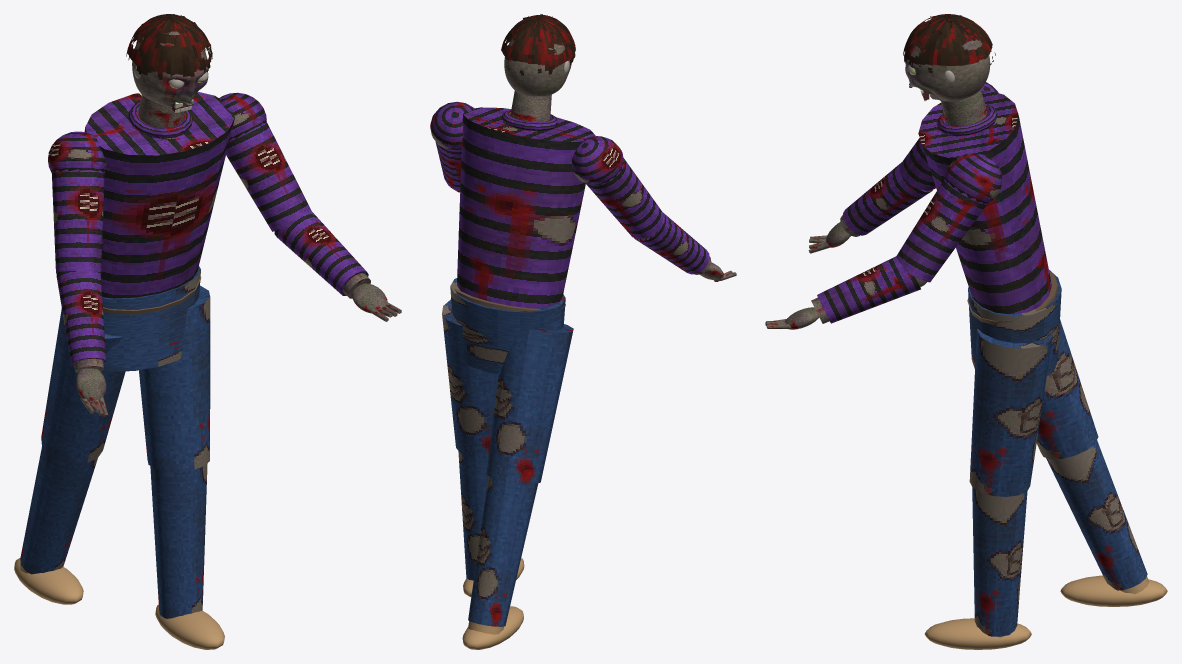
Rendered from Zombie_034.glb.
3 views of the same model, side by side, from view 1: azimuth 30°, elevation 25°; view 2: azimuth 150°, elevation 25°; view 3: azimuth 270°, elevation 25° (orthographic). The views are drawn at different scales.
Parts seen in each view (by area): view 1: Zombie_034, object 4, object 45, object 12, object 18, object 5, object 13; view 2: Zombie_034, object 45, object 4, object 18; view 3: Zombie_034, object 12, object 45, object 4, object 18.
Boxes of the visible parts, left/top/right/bottom form: Zombie_034: left=14, top=92, right=311, bottom=649; object 4: left=56, top=271, right=105, bottom=366; object 45: left=126, top=14, right=212, bottom=77; object 12: left=274, top=210, right=368, bottom=295; object 18: left=132, top=31, right=208, bottom=108; object 5: left=76, top=368, right=106, bottom=402; object 13: left=351, top=283, right=387, bottom=313; Zombie_034: left=430, top=90, right=664, bottom=649; object 45: left=501, top=15, right=575, bottom=73; object 4: left=634, top=212, right=709, bottom=274; object 18: left=504, top=37, right=571, bottom=96; Zombie_034: left=896, top=82, right=1167, bottom=649; object 12: left=817, top=256, right=920, bottom=323; object 45: left=903, top=14, right=995, bottom=70; object 4: left=843, top=162, right=932, bottom=235; object 18: left=904, top=39, right=990, bottom=101.
Bounding box in the file's own units: 0.8465 × 1.79 × 1.07.
16 materials, 6 textured.
